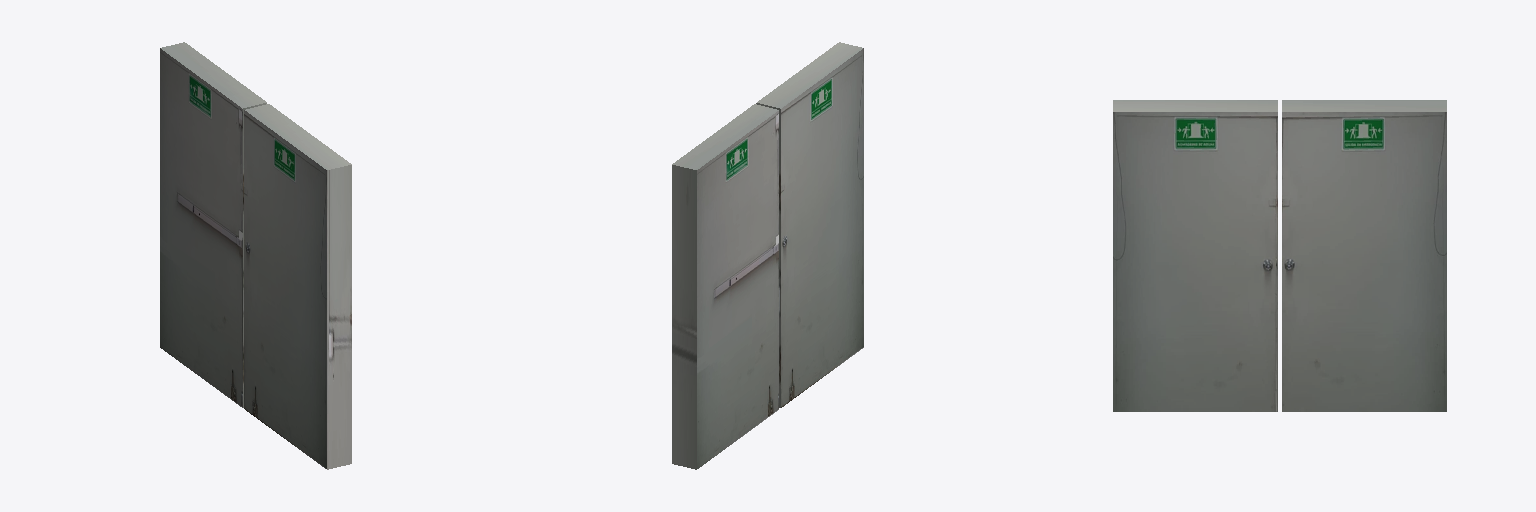
3 renders of one model, left to right at view 1: azimuth 30°, elevation 25°; view 2: azimuth 150°, elevation 25°; view 3: azimuth 270°, elevation 25°, orthographic.
Parts seen in each view (by area): view 1: emerg, emerg.002; view 2: emerg.002, emerg; view 3: emerg, emerg.002.
Part boxes in pixels (bbox=[...]): emerg: bbox=[244, 104, 351, 469]; emerg.002: bbox=[160, 42, 266, 407]; emerg.002: bbox=[672, 104, 778, 469]; emerg: bbox=[756, 42, 863, 407]; emerg: bbox=[1113, 100, 1277, 411]; emerg.002: bbox=[1282, 100, 1446, 411].
Size of the model in its own units: 0.5736 by 6.6 by 6.69.
Materials: 2 (1 with a texture image).